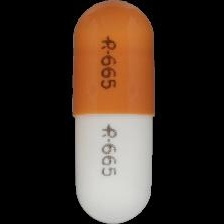16590-101: (0, 0, 224, 224)
